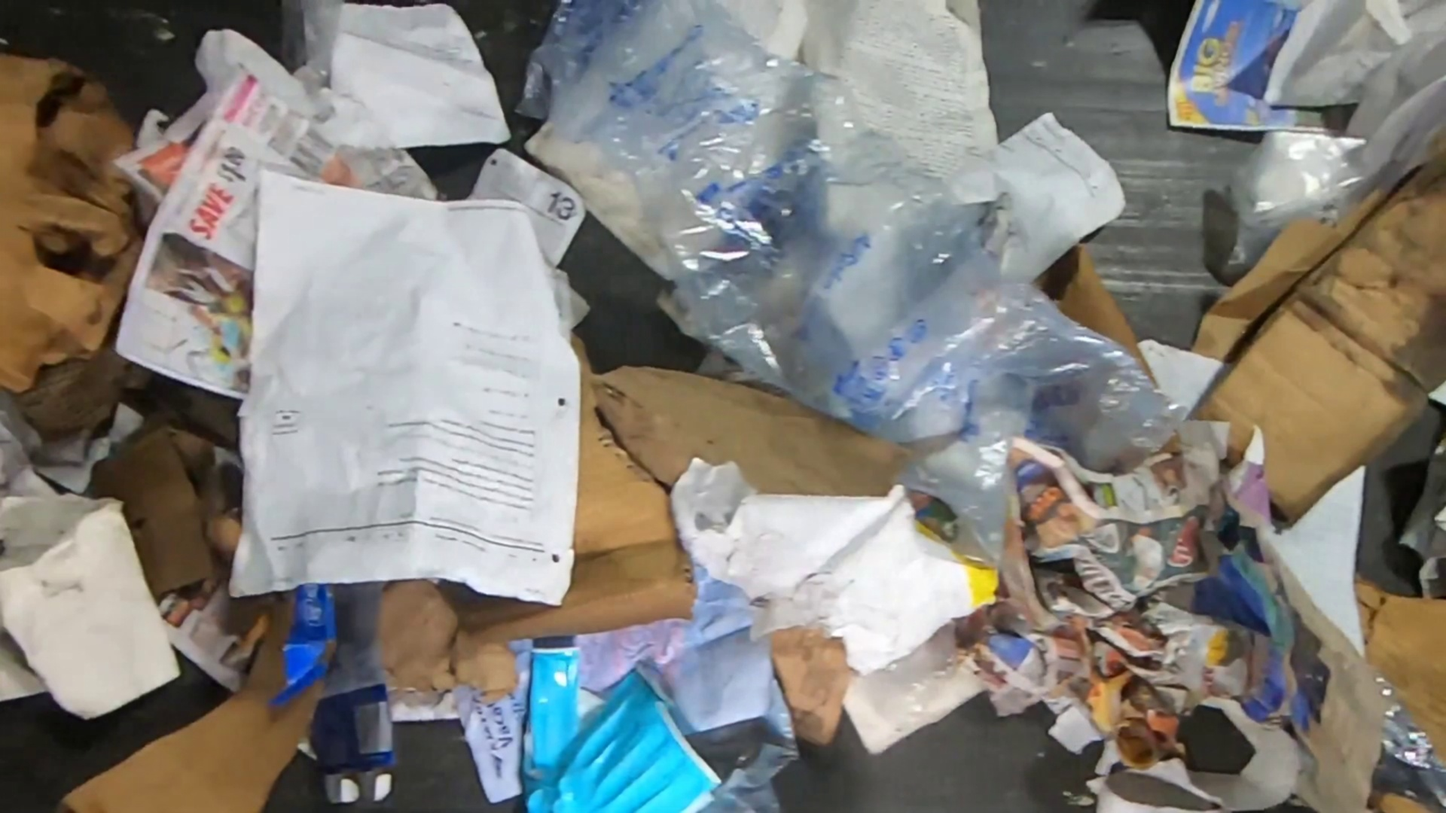cardboard: (374, 368, 692, 706), (1189, 137, 1446, 525), (51, 583, 336, 813), (573, 335, 916, 495), (0, 48, 145, 396), (92, 428, 242, 598), (305, 586, 399, 804), (1032, 242, 1159, 387), (1354, 571, 1446, 766), (769, 624, 859, 745), (1372, 790, 1440, 813)
plastic: (524, 0, 1217, 588), (1219, 20, 1446, 286), (521, 647, 723, 813), (278, 0, 440, 198), (844, 622, 987, 755), (683, 666, 801, 813), (1377, 674, 1446, 774)
